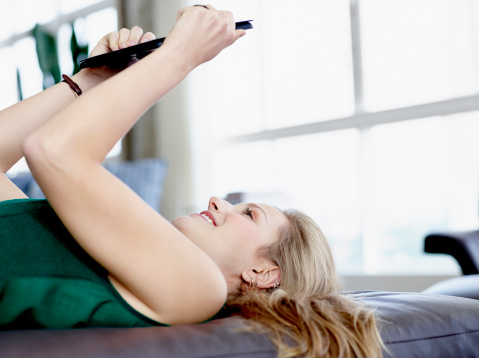deitado: (0, 127, 373, 355)
